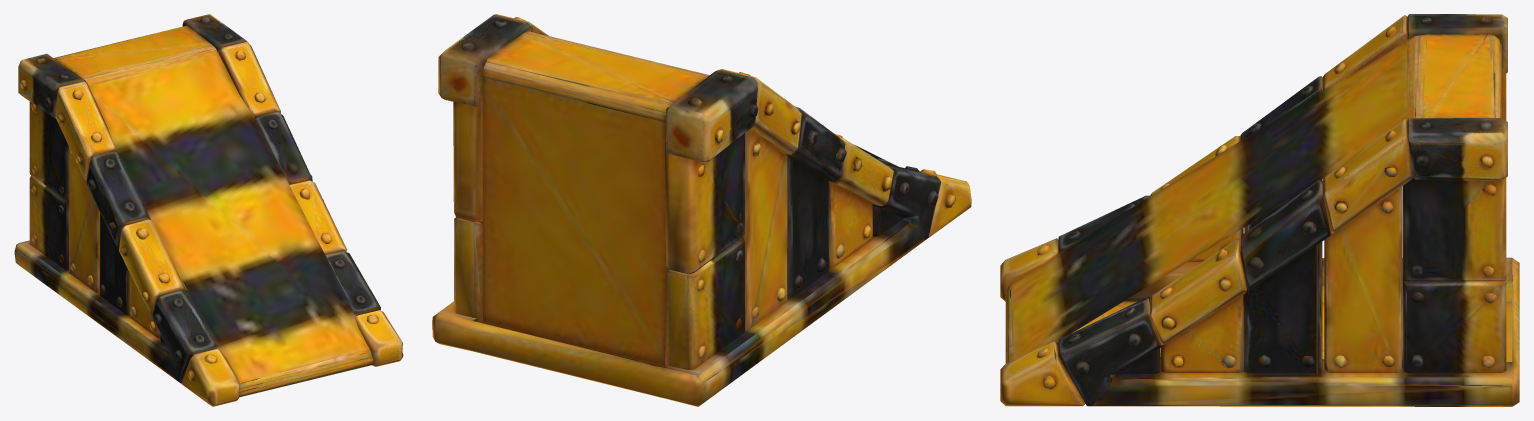
Rendered from ramp.glb.
3 views of the same model, side by side, from view 1: azimuth 30°, elevation 25°; view 2: azimuth 150°, elevation 25°; view 3: azimuth 270°, elevation 25° (orthographic). The views are drawn at different scales.
Parts seen in each view (by area): view 1: geometry_0; view 2: geometry_0; view 3: geometry_0.
Boxes of the visible parts, x1,y1,x2,y2 form: geometry_0: (14,14,403,406); geometry_0: (432,14,971,406); geometry_0: (1000,14,1519,406).
Size of the model in its own units: 0.5601 by 0.5625 by 0.9556.
Materials: 1 (1 with a texture image).
